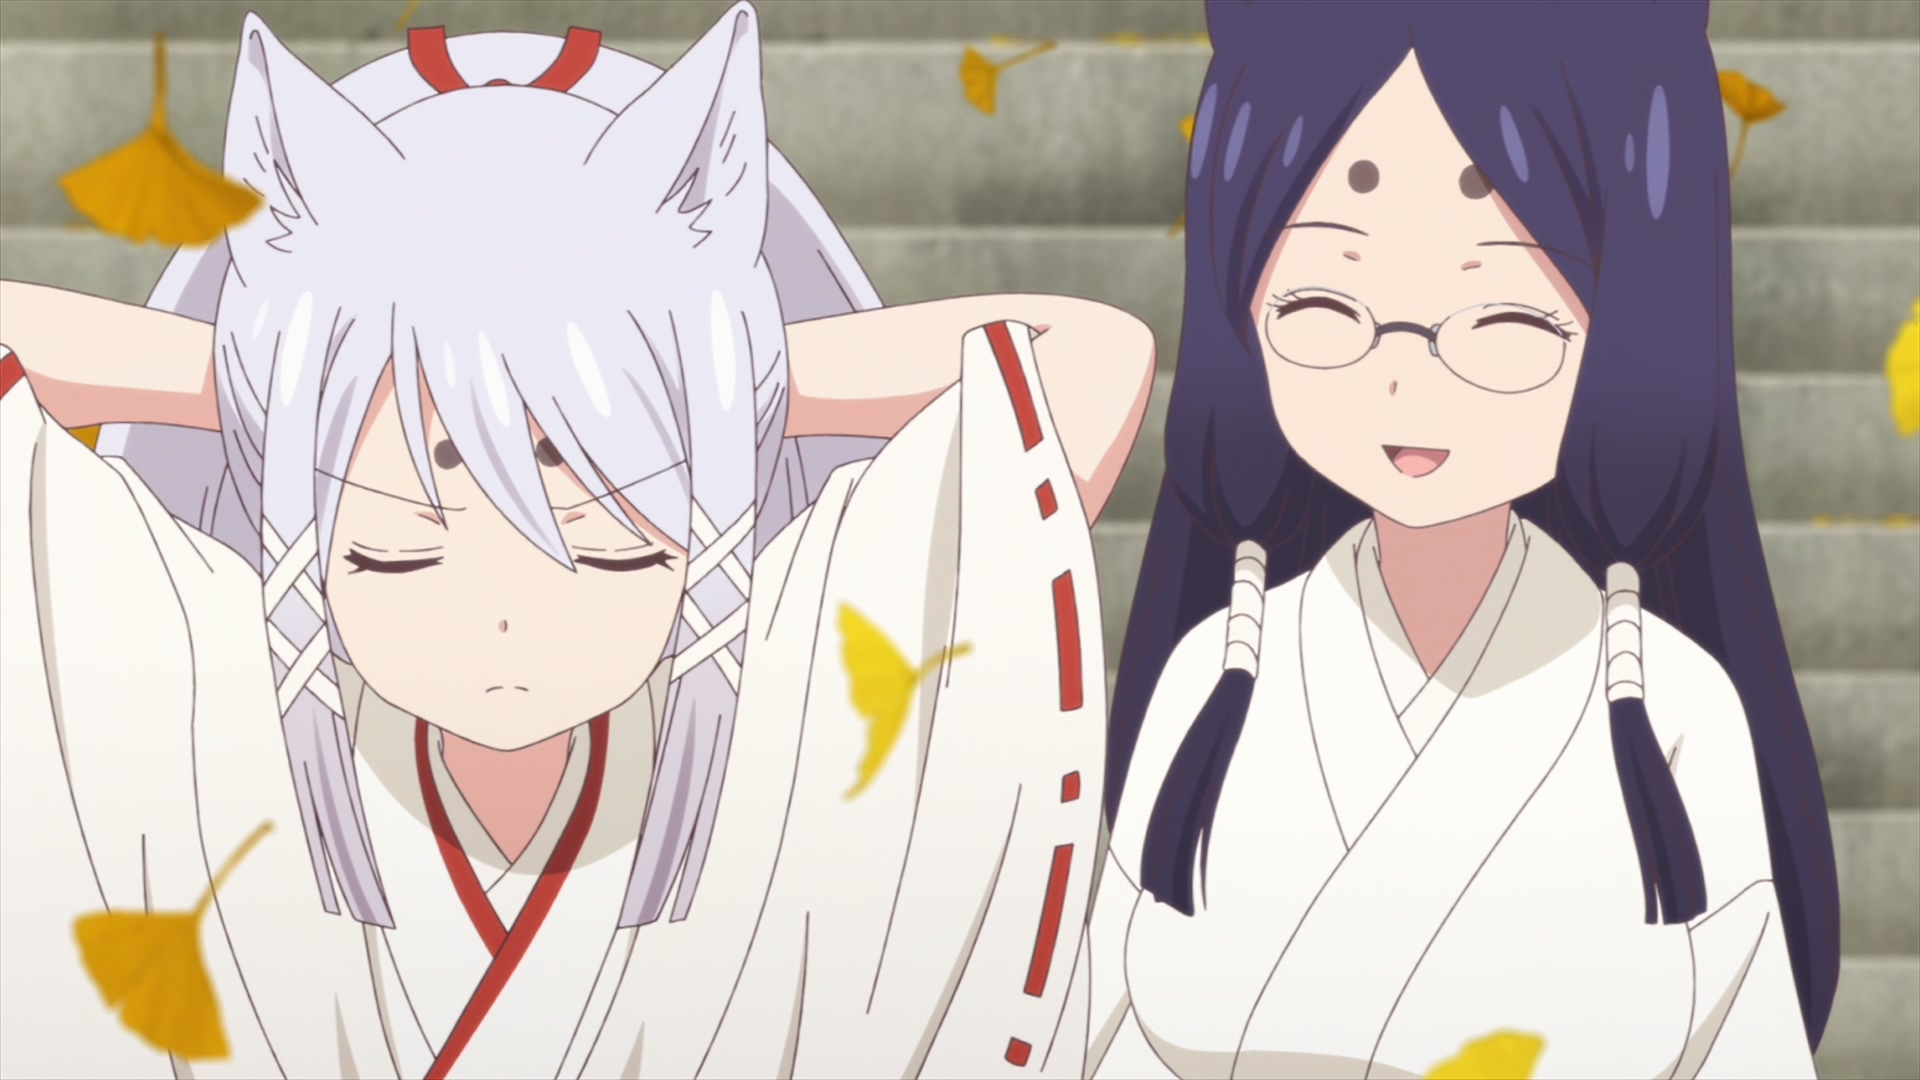柊: (1, 1, 1156, 1080)
菖: (1083, 1, 1844, 1080)
